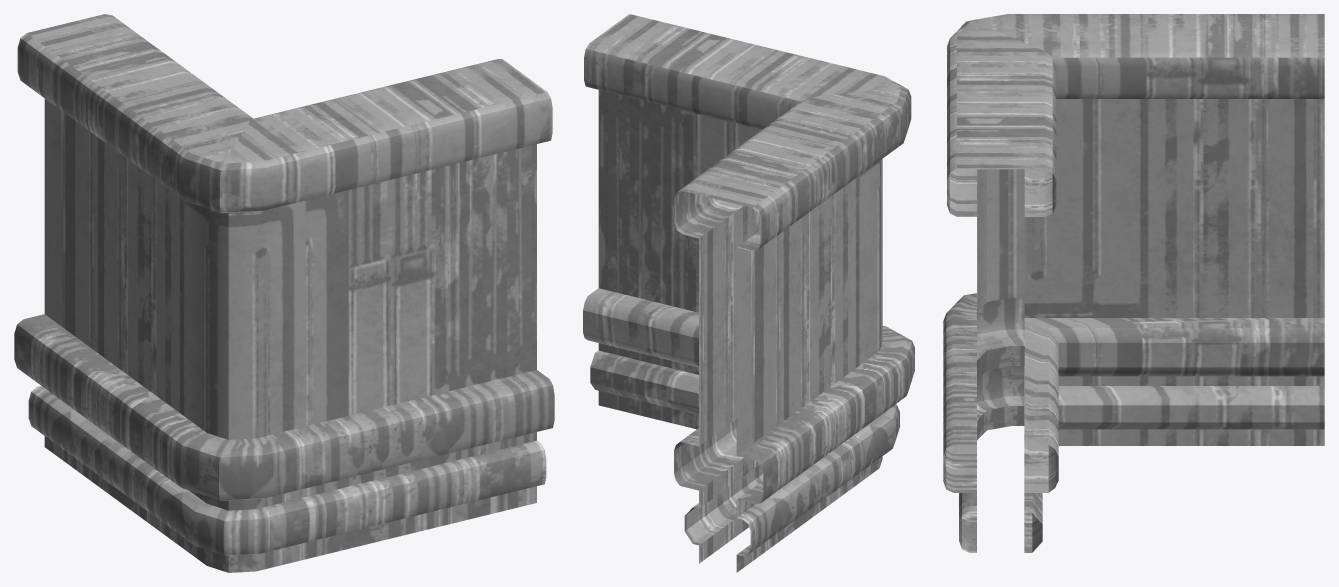
File: SM_Trimcorner.fbx
3 renders of one model, left to right at view 1: azimuth 30°, elevation 25°; view 2: azimuth 150°, elevation 25°; view 3: azimuth 270°, elevation 25°, orthographic. The views are drawn at different scales.
Parts seen in each view (by area): view 1: SM_Trimcorner_LOD0; view 2: SM_Trimcorner_LOD0; view 3: SM_Trimcorner_LOD0.
Boxes of the visible parts, <box> form: SM_Trimcorner_LOD0: <box>14,14,554,572</box>; SM_Trimcorner_LOD0: <box>583,14,914,572</box>; SM_Trimcorner_LOD0: <box>943,14,1324,552</box>.
Bounding box in the file's own units: 110 × 110 × 128.
